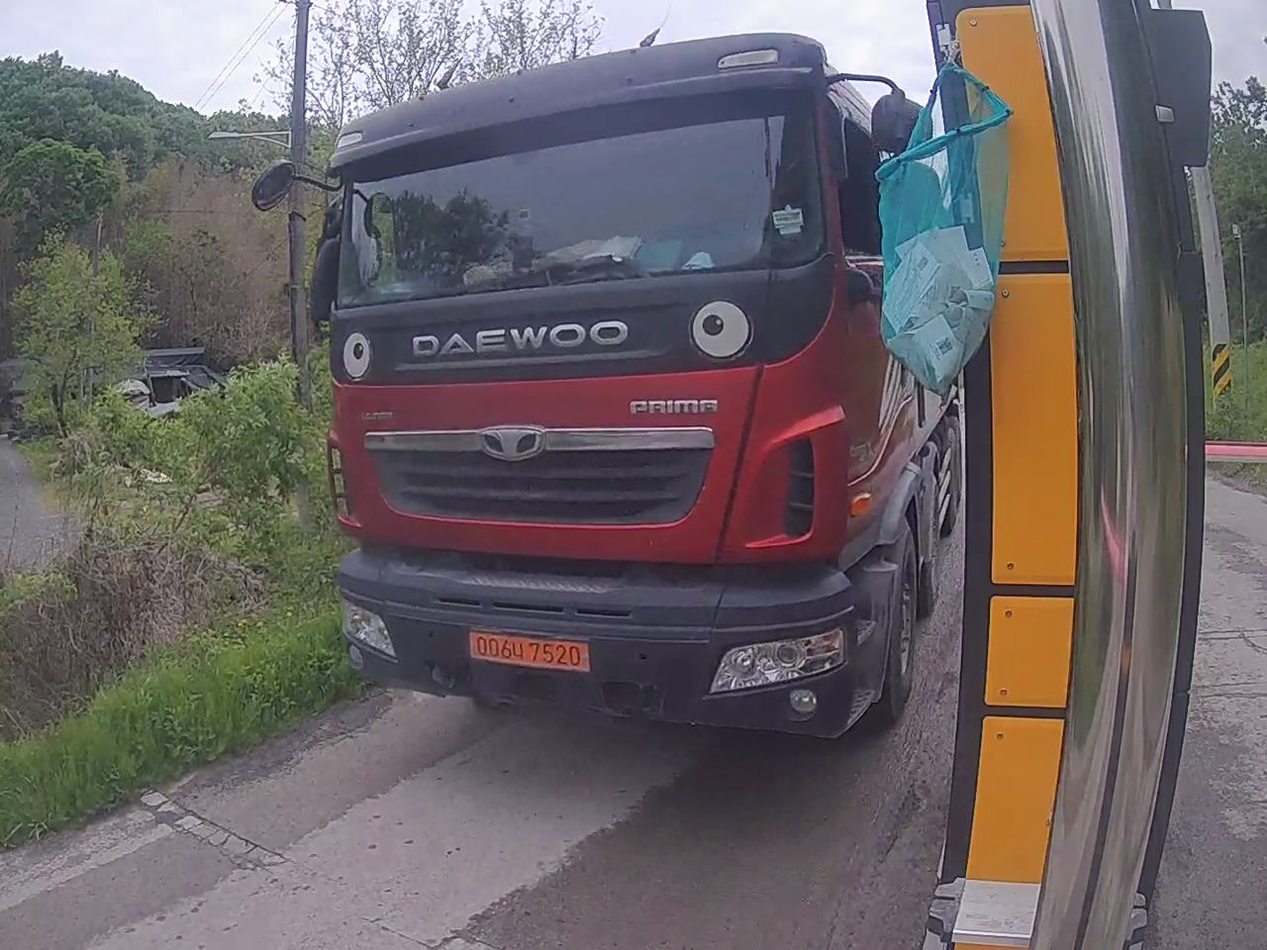license_plate: (470, 631, 589, 672)
truck: (312, 35, 960, 737)
